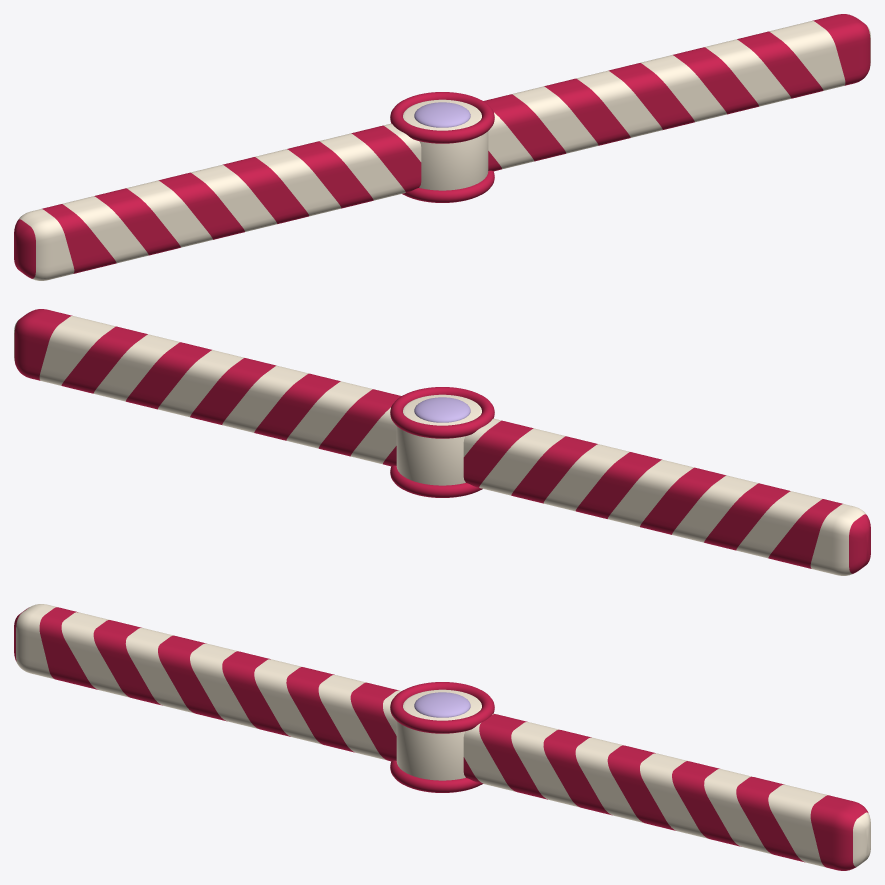
The model's file is windmill_arm.glb.
3 views of the same model, one above another, from view 1: azimuth 30°, elevation 25°; view 2: azimuth 150°, elevation 25°; view 3: azimuth 330°, elevation 25° (orthographic).
Parts seen in each view (by area): view 1: windmill_arm; view 2: windmill_arm; view 3: windmill_arm.
Part boxes in pixels (x1,y1,x2,y2): windmill_arm: [14, 14, 870, 280]; windmill_arm: [14, 309, 870, 575]; windmill_arm: [14, 604, 870, 870].
Bounding box in the file's own units: 9 × 0.745 × 0.96.
